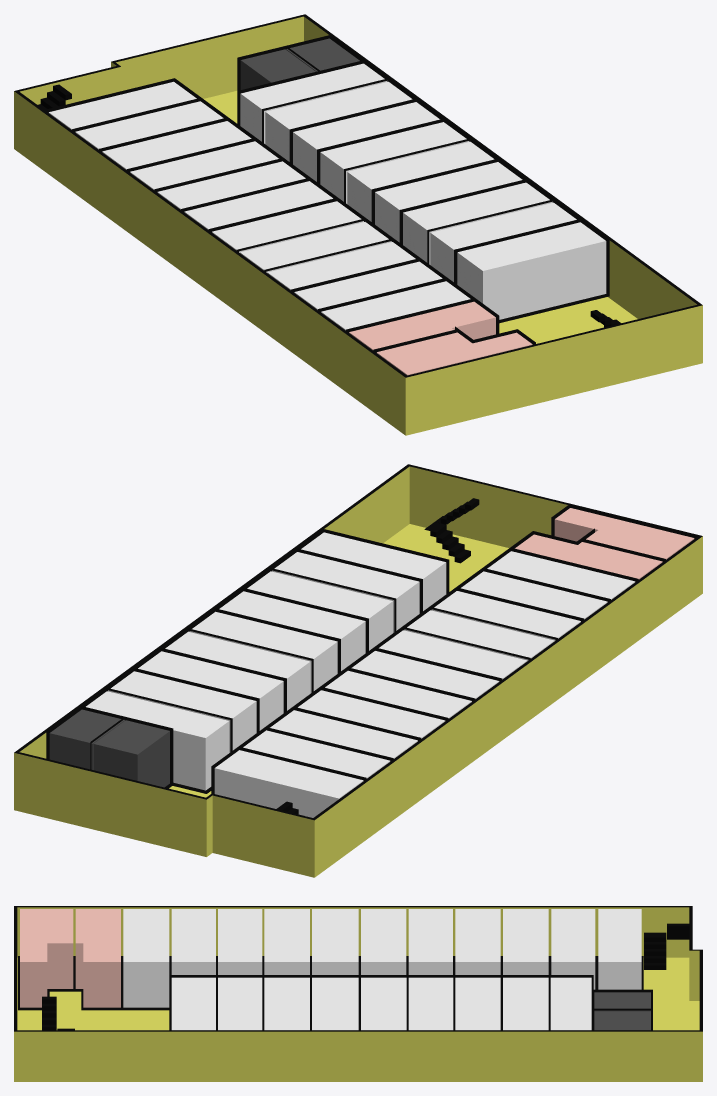
3 views of the same model, one above another, from view 1: azimuth 30°, elevation 25°; view 2: azimuth 150°, elevation 25°; view 3: azimuth 270°, elevation 25° (orthographic). The views are drawn at different scales.
Visible parts, largest first — view 1: object, room_3_5_20, room_3_5_18, room_3_5_15, room_3_5_17, room_3_5_13, room_3_5_16, room_3_5_14, room_3_5_19, room_3_5_12, トイレ_3_5_2, room_3_5_5 (+25 smaller); view 2: object, エレベーター_3_5_1, room_3_5_11, room_3_5_12, room_3_5_16, room_3_5_13, room_3_5_19, room_3_5_17, room_3_5_14, room_3_5_18, room_3_5_15, room_3_5_20 (+30 smaller); view 3: object, トイレ_3_5_1, room_3_5_1, トイレ_3_5_2, room_3_5_11, room_3_5_5, room_3_5_4, room_3_5_6, room_3_5_8, room_3_5_9, room_3_5_10, room_3_5_2 (+26 smaller).
Boxes of the visible parts, x1,y1,x2,y2 form: object: (14, 14, 702, 435); room_3_5_20: (457, 222, 606, 319); room_3_5_18: (403, 182, 552, 264); room_3_5_15: (320, 122, 469, 203); room_3_5_17: (375, 162, 522, 242); room_3_5_13: (265, 81, 412, 161); room_3_5_16: (347, 141, 494, 221); room_3_5_14: (293, 102, 439, 181); room_3_5_19: (430, 202, 576, 281); room_3_5_12: (240, 63, 387, 143); トイレ_3_5_2: (349, 301, 495, 350); room_3_5_5: (212, 201, 363, 252); object: (14, 464, 702, 877); エレベーター_3_5_1: (49, 709, 169, 787); room_3_5_11: (214, 750, 363, 817); room_3_5_12: (86, 691, 229, 790); room_3_5_16: (189, 611, 337, 693); room_3_5_13: (108, 671, 256, 752); room_3_5_19: (272, 552, 419, 632); room_3_5_17: (219, 591, 365, 670); room_3_5_14: (138, 651, 283, 730); room_3_5_18: (247, 571, 392, 650); room_3_5_15: (165, 631, 310, 710); room_3_5_20: (301, 532, 446, 610); object: (14, 906, 702, 1081); トイレ_3_5_1: (20, 909, 73, 1007); room_3_5_1: (123, 909, 169, 1007); トイレ_3_5_2: (75, 909, 120, 1007); room_3_5_11: (598, 909, 641, 989); room_3_5_5: (312, 909, 358, 974); room_3_5_4: (264, 909, 309, 974); room_3_5_6: (361, 909, 406, 974); room_3_5_8: (455, 909, 500, 974); room_3_5_9: (503, 909, 548, 974); room_3_5_10: (551, 909, 595, 989); room_3_5_2: (171, 909, 215, 974).
Size of the model in its own units: 1.07 by 0.2048 by 2.49.
